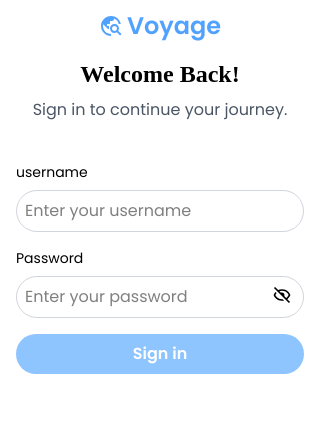
it: LoginForm Tests › shows validation errors if fields empty
The image size is (321, 443).
Step 1. Click the button "Sign in" → (160, 354), box [16,334,304,374]
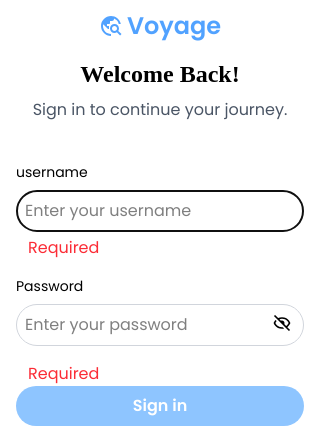
Expected: the text "Required" is shown 2 times, [28,236,99,259]; [28,362,99,385]
